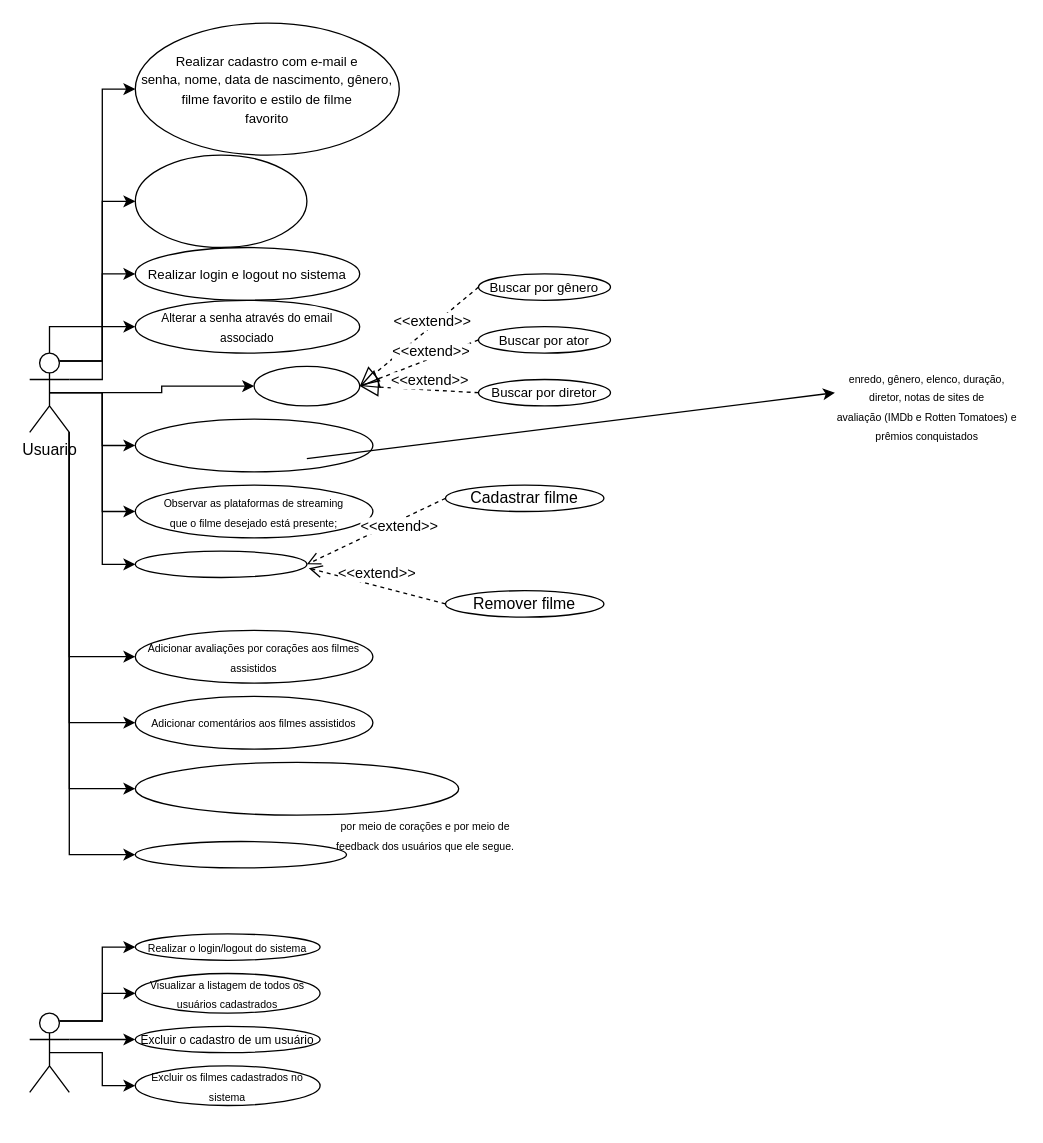
This 1043x1143 diagram has some shape labels left out. Each missing label, with the box of its shape:
Admin: (28, 1012, 69, 1092)
Buscar filmes: (253, 365, 360, 406)
Confirmar e-mail por meio de código de confirmação: (134, 154, 307, 248)
Gerenciar lista de filmes favoritos: (134, 550, 307, 578)
Observar as informações básicas do filme: (134, 418, 373, 472)
Pesquisar por outros usuários através do login do outro usuário: (134, 761, 459, 815)
Visualizar avaliações de outros usuários: (134, 840, 346, 868)
